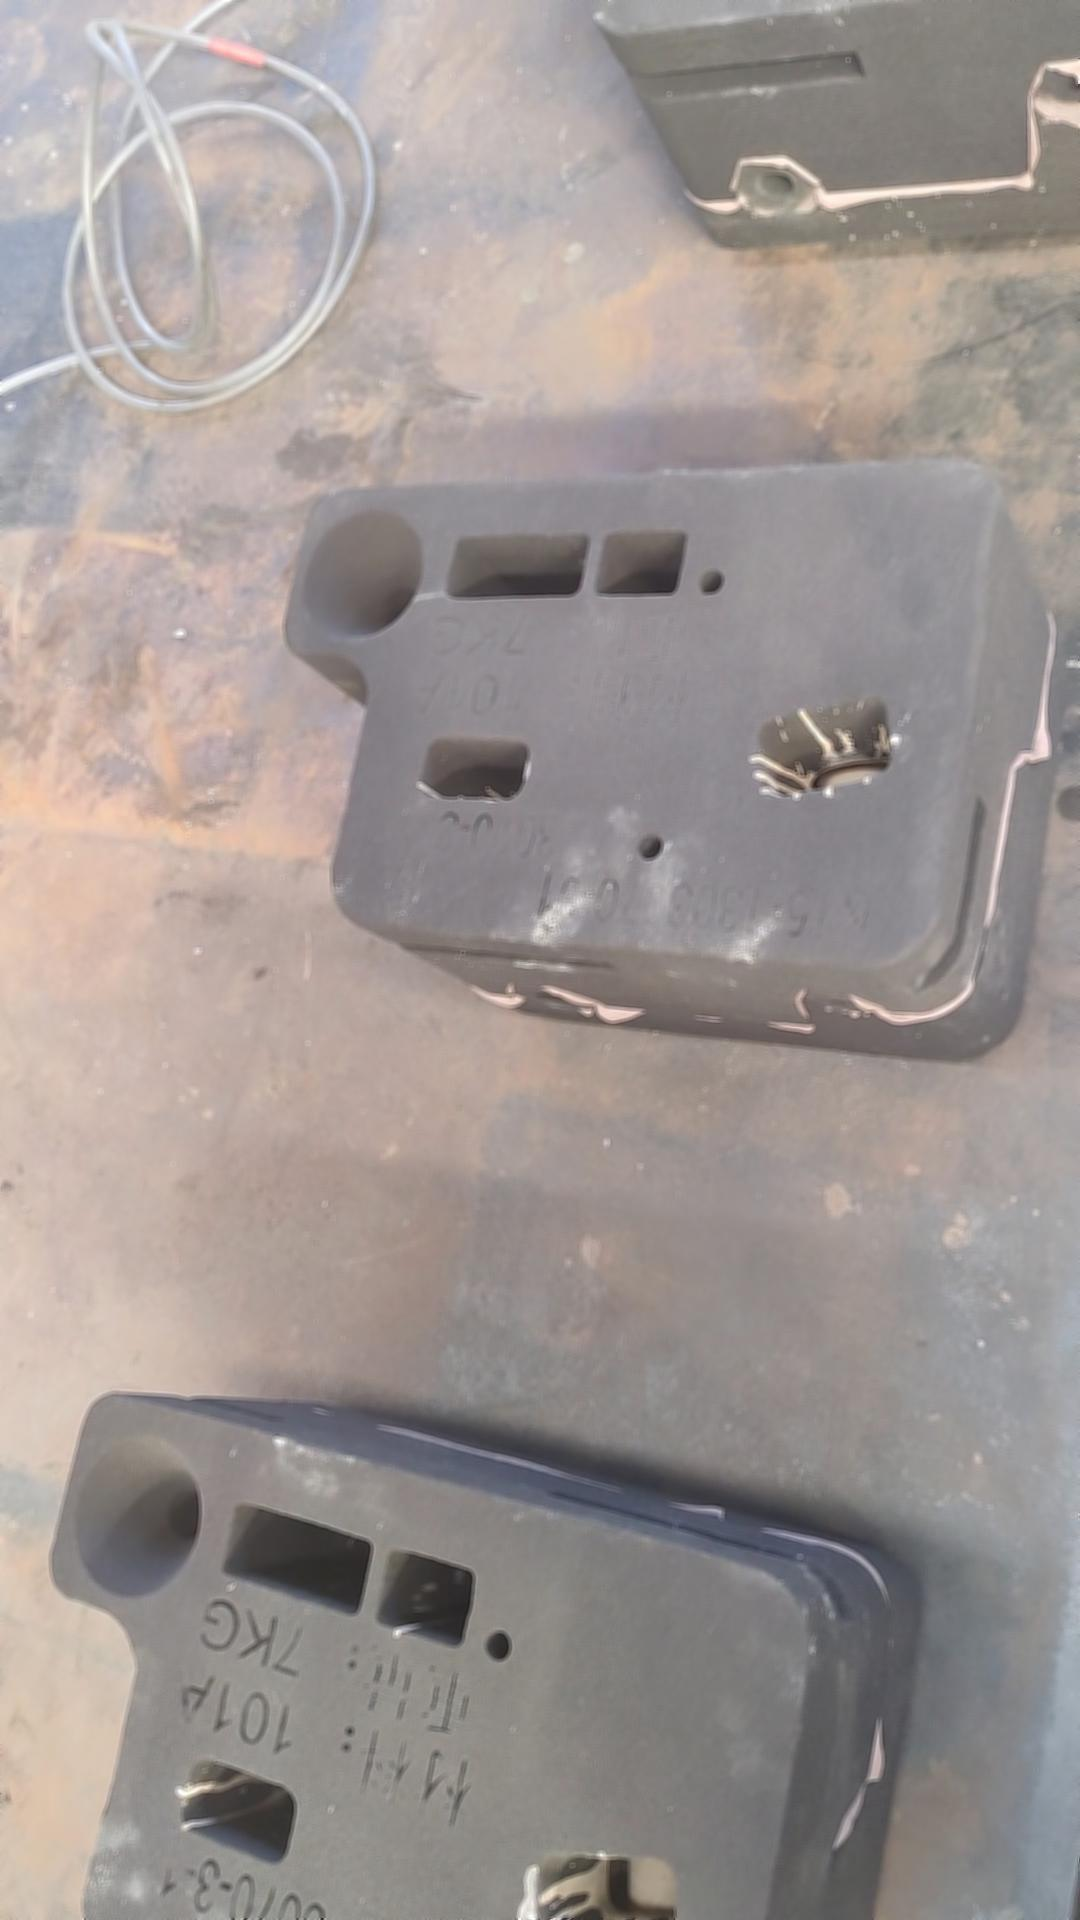pouring hole: (73, 1433, 204, 1604), (299, 512, 427, 640)
